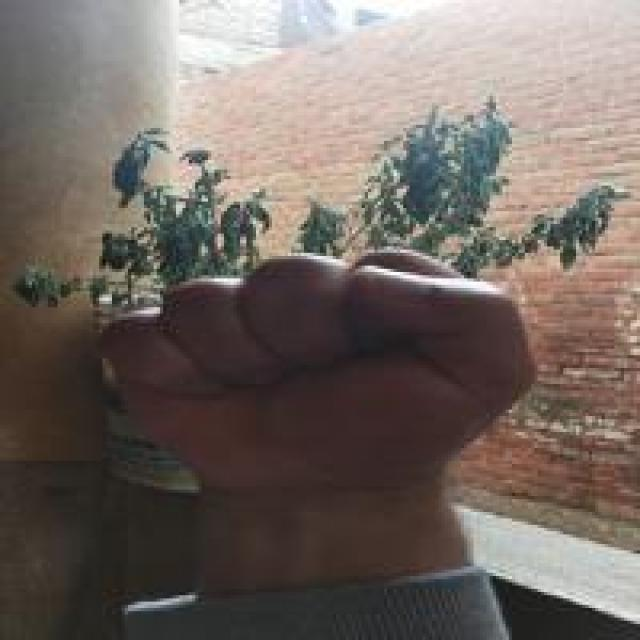S: (93, 242, 557, 494)
